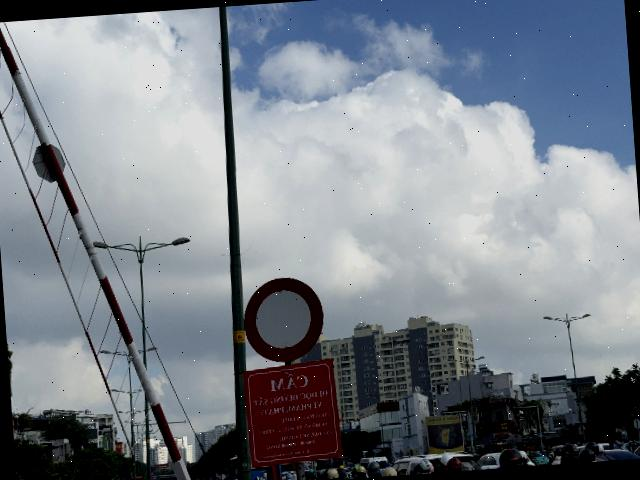duong-cam: (241, 274, 326, 364)
